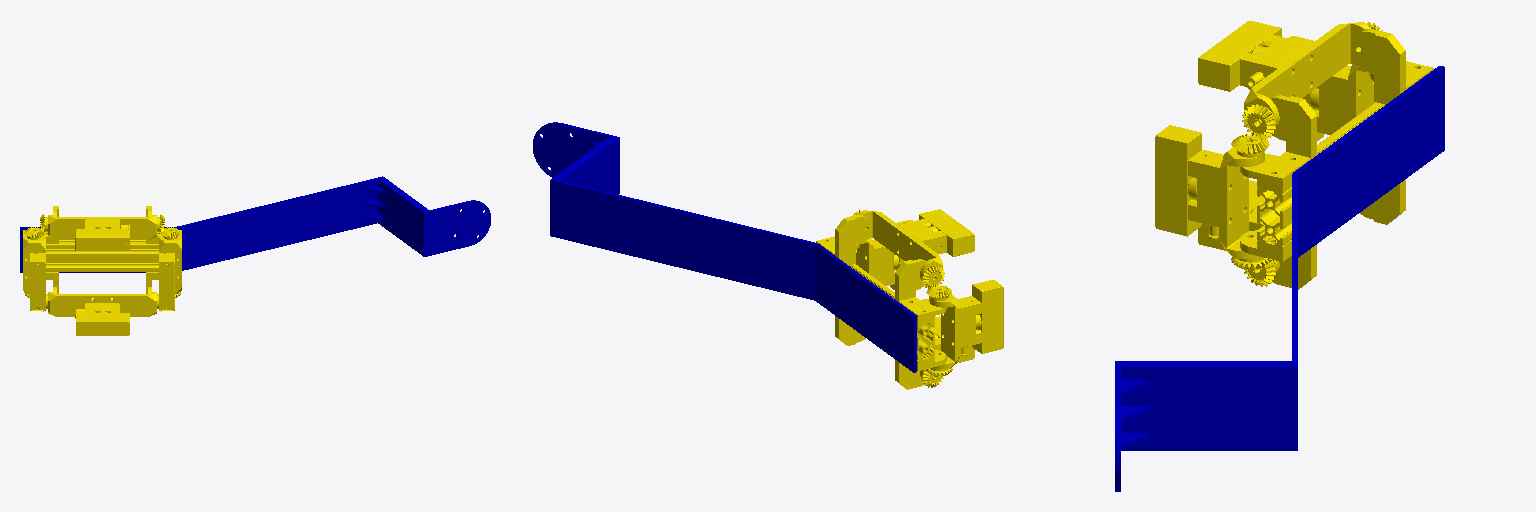
URDF robot description (S20):
<?xml version="1.0" ?>
<robot name="S20">
  <!-- material definition -->
  <material name="black">
    <color rgba="0.0 0.0 0.0 1.0"/>
  </material>
  <material name="blue">
    <color rgba="0.0 0.0 0.8 1.0"/>
  </material>
  <material name="green">
    <color rgba="0.0 0.8 0.0 1.0"/>
  </material>
  <material name="grey">
    <color rgba="0.2 0.2 0.2 1.0"/>
  </material>
  <material name="orange">
    <color rgba="1.0 0.4235294117647059 0.0392156862745098 1.0"/>
  </material>
  <material name="brown">
    <color rgba="0.8705882352941177 0.8117647058823529 0.7647058823529411 1.0"/>
  </material>
  <material name="red">
    <color rgba="0.8 0.0 0.0 1.0"/>
  </material>
  <material name="white">
    <color rgba="1.0 1.0 1.0 1.0"/>
  </material>
  <material name="metal">
    <color rgba="0.768627450980392 0.749019607843137 0.729411764705882 1"/>
  </material>
  <material name="metal_grey">
    <color rgba="0.501960784313725 0.501960784313725 0.501960784313725 1"/>
  </material>
  <material name="metal_white">
    <color rgba="0.866666666666667 0.866666666666667 0.890196078431373 1"/>
  </material>
  <!-- ros_control plugin -->
  <gazebo>
    <plugin filename="libgazebo_ros_control.so" name="gazebo_ros_control">
      <robotSimType>gazebo_ros_control/DefaultRobotHWSim</robotSimType>
      <legacyModeNS>true</legacyModeNS>
    </plugin>
  </gazebo>
  <gazebo reference="elfin_link2">
    <visual name="visual">
      <material>
        <script>
          <uri>file:/[local-path]/scripts/gazebo.material</uri>
          <name>Gazebo/Grey</name>
        </script>
      </material>
    </visual>
  </gazebo>
  <gazebo reference="elfin_link4">
    <visual name="visual">
      <material>
        <script>
          <uri>file:/[local-path]/scripts/gazebo.material</uri>
          <name>Gazebo/Grey</name>
        </script>
      </material>
    </visual>
  </gazebo>
  <!-- transmission for each joint -->
  <transmission name="elfin_joint1_trans">
    <type>transmission_interface/SimpleTransmission</type>
    <joint name="elfin_joint1">
      <hardwareInterface>hardware_interface/PositionJointInterface</hardwareInterface>
    </joint>
    <actuator name="elfin_joint1_motor">
      <mechanicalReduction>1</mechanicalReduction>
    </actuator>
  </transmission>
  <transmission name="elfin_joint2_trans">
    <type>transmission_interface/SimpleTransmission</type>
    <joint name="elfin_joint2">
      <hardwareInterface>hardware_interface/PositionJointInterface</hardwareInterface>
    </joint>
    <actuator name="elfin_joint2_motor">
      <mechanicalReduction>1</mechanicalReduction>
    </actuator>
  </transmission>
  <transmission name="elfin_joint3_trans">
    <type>transmission_interface/SimpleTransmission</type>
    <joint name="elfin_joint3">
      <hardwareInterface>hardware_interface/PositionJointInterface</hardwareInterface>
    </joint>
    <actuator name="elfin_joint3_motor">
      <mechanicalReduction>1</mechanicalReduction>
    </actuator>
  </transmission>
  <transmission name="elfin_joint4_trans">
    <type>transmission_interface/SimpleTransmission</type>
    <joint name="elfin_joint4">
      <hardwareInterface>hardware_interface/PositionJointInterface</hardwareInterface>
    </joint>
    <actuator name="elfin_joint4_motor">
      <mechanicalReduction>1</mechanicalReduction>
    </actuator>
  </transmission>
  <transmission name="elfin_joint5_trans">
    <type>transmission_interface/SimpleTransmission</type>
    <joint name="elfin_joint5">
      <hardwareInterface>hardware_interface/PositionJointInterface</hardwareInterface>
    </joint>
    <actuator name="elfin_joint5_motor">
      <mechanicalReduction>1</mechanicalReduction>
    </actuator>
  </transmission>
  <transmission name="elfin_joint6_trans">
    <type>transmission_interface/SimpleTransmission</type>
    <joint name="elfin_joint6">
      <hardwareInterface>hardware_interface/PositionJointInterface</hardwareInterface>
    </joint>
    <actuator name="elfin_joint6_motor">
      <mechanicalReduction>1</mechanicalReduction>
    </actuator>
  </transmission>
  <!-- link and joint -->
  <link name="world"/>
  <joint name="world_base" type="fixed">
    <origin rpy="0 0 0" xyz="0 0 0"/>
    <parent link="world"/>
    <child link="elfin_base_link"/>
  </joint>
  <link name="elfin_base_link"/>
  <joint name="elfin_base_joint" type="fixed">
    <origin rpy="0 0 0" xyz="0 0 0"/>
    <parent link="elfin_base_link"/>
    <child link="elfin_base"/>
  </joint>
  <link name="elfin_base">
    <inertial>
      <origin rpy="0 0 0" xyz="-0.00131650768656017 3.86349405459754E-05 0.0343213199540785"/>
      <mass value="2.32181468230125"/>
      <inertia ixx="0.00741739022505177" ixy="-9.4225231258528E-05" ixz="-5.45619950886553E-05" iyy="0.00699483778046143" iyz="1.30022773204213E-06" izz="0.0123390065438587"/>
    </inertial>
    <visual>
      <origin rpy="0 0 0" xyz="0 0 0"/>
      <geometry>
        <mesh filename="package://elfin_description/meshes/S20/elfin_base.STL"/>
      </geometry>
      <material name="">
        <color rgba="0.752941176470588 0.752941176470588 0.752941176470588 1"/>
      </material>
    </visual>
    <collision>
      <origin rpy="0 0 0" xyz="0 0 0"/>
      <geometry>
        <mesh filename="package://elfin_description/meshes/S20/elfin_base.STL"/>
      </geometry>
    </collision>
  </link>
  <link name="elfin_link1">
    <inertial>
      <origin rpy="0 0 0" xyz="-1.0792519167212E-07 -0.0224399626110038 0.00175002240516534"/>
      <mass value="6.93455742496729"/>
      <inertia ixx="0.0460589183335357" ixy="5.43718136375216E-07" ixz="2.96738634298801E-07" iyy="0.0375916708812216" iyz="-0.000245581780149179" izz="0.0394268304468804"/>
    </inertial>
    <visual>
      <origin rpy="0 0 0" xyz="0 0 0"/>
      <geometry>
        <mesh filename="package://elfin_description/meshes/S20/elfin_link1.STL"/>
      </geometry>
      <material name="">
        <color rgba="0.898039215686275 0.917647058823529 0.929411764705882 1"/>
      </material>
    </visual>
    <collision>
      <origin rpy="0 0 0" xyz="0 0 0"/>
      <geometry>
        <mesh filename="package://elfin_description/meshes/S20/elfin_link1.STL"/>
      </geometry>
    </collision>
  </link>
  <joint name="elfin_joint1" type="revolute">
    <origin rpy="0 0 0" xyz="0 0 0.171"/>
    <parent link="elfin_base"/>
    <child link="elfin_link1"/>
    <axis xyz="0 0 1"/>
    <limit effort="200" lower="-6.28" upper="6.28" velocity="1.57"/>
  </joint>
  <link name="elfin_link2">
    <inertial>
      <origin rpy="0 0 0" xyz="-0.370229694350317 9.38128437405483E-07 0.000899041883029139"/>
      <mass value="18.8395085758056"/>
      <inertia ixx="0.0687507132351259" ixy="-5.05507420279161E-07" ixz="-6.41343868263508E-05" iyy="0.411200291693132" iyz="-1.80729528146994E-07" izz="0.40138597350588"/>
    </inertial>
    <visual>
      <origin rpy="0 0 0" xyz="0 0 0"/>
      <geometry>
        <mesh filename="package://elfin_description/meshes/S20/elfin_link2.STL"/>
      </geometry>
      <material name="">
        <color rgba="0.752941176470588 0.752941176470588 0.752941176470588 1"/>
      </material>
    </visual>
    <collision>
      <origin rpy="0 0 0" xyz="0 0 0"/>
      <geometry>
        <mesh filename="package://elfin_description/meshes/S20/elfin_link2.STL"/>
      </geometry>
    </collision>
  </link>
  <joint name="elfin_joint2" type="revolute">
    <origin rpy="1.5708 1.5708 0" xyz="0 -0.2295 0"/>
    <parent link="elfin_link1"/>
    <child link="elfin_link2"/>
    <axis xyz="0 0 1"/>
    <limit effort="200" lower="-3.3158" upper="0.1745" velocity="1.57"/>
  </joint>
  <link name="elfin_link3">
    <inertial>
      <origin rpy="0 0 0" xyz="0.310973076601113 -4.7405306624615E-09 0.0109938899740937"/>
      <mass value="7.53508270364931"/>
      <inertia ixx="0.0133872719937165" ixy="1.91460600478011E-07" ixz="0.00152175061957157" iyy="0.11837455186459" iyz="-2.26041817837737E-08" izz="0.116582348081593"/>
    </inertial>
    <visual>
      <origin rpy="0 0 0" xyz="0 0 0"/>
      <geometry>
        <mesh filename="package://elfin_description/meshes/S20/elfin_link3.STL"/>
      </geometry>
      <material name="">
        <color rgba="0.752941176470588 0.752941176470588 0.752941176470588 1"/>
      </material>
    </visual>
    <collision>
      <origin rpy="0 0 0" xyz="0 0 0"/>
      <geometry>
        <mesh filename="package://elfin_description/meshes/S20/elfin_link3.STL"/>
      </geometry>
    </collision>
  </link>
  <joint name="elfin_joint3" type="revolute">
    <origin rpy="0 0 3.1416" xyz="-0.85 0 -0.1885"/>
    <parent link="elfin_link2"/>
    <child link="elfin_link3"/>
    <axis xyz="0 0 1"/>
    <limit effort="200" lower="-2.9319" upper="2.9319" velocity="1.57"/>
  </joint>
  <link name="elfin_link4">
    <inertial>
      <origin rpy="0 0 0" xyz="8.5204157129759E-07 -0.00559612992738279 0.124499710924349"/>
      <mass value="1.26777180180805"/>
      <inertia ixx="0.00300888445161096" ixy="1.64612435809042E-08" ixz="3.62281943568331E-08" iyy="0.00214465218602862" iyz="9.35786831203314E-05" izz="0.00239761638151984"/>
    </inertial>
    <visual>
      <origin rpy="0 0 0" xyz="0 0 0"/>
      <geometry>
        <mesh filename="package://elfin_description/meshes/S20/elfin_link4.STL"/>
      </geometry>
      <material name="">
        <color rgba="0.898039215686275 0.917647058823529 0.929411764705882 1"/>
      </material>
    </visual>
    <collision>
      <origin rpy="0 0 0" xyz="0 0 0"/>
      <geometry>
        <mesh filename="package://elfin_description/meshes/S20/elfin_link4.STL"/>
      </geometry>
    </collision>
  </link>
  <joint name="elfin_joint4" type="revolute">
    <origin rpy="0 0 0" xyz="0.712 0 0"/>
    <parent link="elfin_link3"/>
    <child link="elfin_link4"/>
    <axis xyz="0 0 1"/>
    <limit effort="104" lower="-6.28" upper="6.28" velocity="1.57"/>
  </joint>
  <link name="elfin_link5">
    <inertial>
      <origin rpy="0 0 0" xyz="-1.58900480728974E-06 0.00559613044782842 0.124499711309393"/>
      <mass value="1.26777180180803"/>
      <inertia ixx="0.00300888445161093" ixy="1.64612435696446E-08" ixz="-3.62281943491141E-08" iyy="0.00214465218602857" iyz="-9.35786831203246E-05" izz="0.00239761638151982"/>
    </inertial>
    <visual>
      <origin rpy="0 0 0" xyz="0 0 0"/>
      <geometry>
        <mesh filename="package://elfin_description/meshes/S20/elfin_link5.STL"/>
      </geometry>
      <material name="">
        <color rgba="0.752941176470588 0.752941176470588 0.752941176470588 1"/>
      </material>
    </visual>
    <collision>
      <origin rpy="0 0 0" xyz="0 0 0"/>
      <geometry>
        <mesh filename="package://elfin_description/meshes/S20/elfin_link5.STL"/>
      </geometry>
    </collision>
  </link>
  <joint name="elfin_joint5" type="revolute">
    <origin rpy="-1.5708 0 0" xyz="0 0 0.138"/>
    <parent link="elfin_link4"/>
    <child link="elfin_link5"/>
    <axis xyz="0 0 1"/>
    <limit effort="34" lower="-6.28" upper="6.28" velocity="1.57"/>
  </joint>
  <link name="elfin_link6">
    <inertial>
      <origin rpy="0 0 0" xyz="-7.47115137089693E-07 0.000102435646244473 0.0904183015693256"/>
      <mass value="0.468079508708449"/>
      <inertia ixx="0.000412770805513074" ixy="1.60636639637837E-08" ixz="-3.02343967687703E-08" iyy="0.000415704740293176" iyz="1.46595766333508E-07" izz="0.000530952415351683"/>
    </inertial>
    <visual>
      <origin rpy="0 0 0" xyz="0 0 0"/>
      <geometry>
        <mesh filename="package://elfin_description/meshes/S20/elfin_link6.STL"/>
      </geometry>
      <material name="">
        <color rgba="0.752941176470588 0.752941176470588 0.752941176470588 1"/>
      </material>
    </visual>
    <collision>
      <origin rpy="0 0 0" xyz="0 0 0"/>
      <geometry>
        <mesh filename="package://elfin_description/meshes/S20/elfin_link6.STL"/>
      </geometry>
    </collision>
  </link>
  <joint name="elfin_joint6" type="revolute">
    <origin rpy="1.5708 0 0" xyz="0 0 0.138"/>
    <parent link="elfin_link5"/>
    <child link="elfin_link6"/>
    <axis xyz="0 0 1"/>
    <limit effort="34" lower="-6.28" upper="6.28" velocity="1.57"/>
  </joint>
  <link name="elfin_end_link">
  </link>
  <joint name="elfin_end_joint" type="fixed">
    <origin rpy="0 0 3.1416" xyz="0 0 0.1257"/>
    <parent link="elfin_link6"/>
    <child link="elfin_end_link"/>
  </joint>
  <link name="ee_link">
    <visual>
      <origin rpy="0 0 0" xyz="0 0 0"/>
      <geometry>
        <mesh filename="package://elfin_description/meshes/S20/ee_link.STL"/>
      </geometry>
      <material name="">
        <color rgba="0 0 0.8 1"/>
      </material>
    </visual>
    <collision>
      <origin rpy="0 0 0" xyz="0 0 0"/>
      <geometry>
        <mesh filename="package://elfin_description/meshes/S20/ee_link.STL"/>
      </geometry>
    </collision>
  </link>
  <joint name="ee_link_joint" type="fixed">
    <origin rpy="-1.5707 0 1.5707" xyz="0.035 -0.155 0"/>
    <parent link="elfin_end_link"/>
    <child link="ee_link"/>
  </joint>
  <link name="gripper_link0">
    <visual>
      <origin rpy="0 0 0" xyz="0 0 0"/>
      <geometry>
        <mesh filename="package://elfin_description/meshes/S20/gripper_link.STL"/>
      </geometry>
      <material name="">
        <color rgba="0 0 0.8 1"/>
      </material>
    </visual>
    <collision>
      <origin rpy="0 0 0" xyz="0 0 0"/>
      <geometry>
        <mesh filename="package://elfin_description/meshes/S20/gripper_link.STL"/>
      </geometry>
    </collision>
  </link>
  <joint name="gripper_link_joint0" type="fixed">
    <origin rpy="1.5707 0 0" xyz="-0.1 0.124 0"/>
    <parent link="ee_link"/>
    <child link="gripper_link0"/>
  </joint>
  <link name="gripper_link1">
    <visual>
      <origin rpy="0 0 0" xyz="0 0 0"/>
      <geometry>
        <mesh filename="package://elfin_description/meshes/S20/gripper_link.STL"/>
      </geometry>
      <material name="">
        <color rgba="0 0 0.8 1"/>
      </material>
    </visual>
    <collision>
      <origin rpy="0 0 0" xyz="0 0 0"/>
      <geometry>
        <mesh filename="package://elfin_description/meshes/S20/gripper_link.STL"/>
      </geometry>
    </collision>
  </link>
  <joint name="gripper_link_joint1" type="fixed">
    <origin rpy="0 0 0" xyz="-0.1 0 0"/>
    <parent link="gripper_link0"/>
    <child link="gripper_link1"/>
  </joint>
  <link name="gripper_link_ee1">
    <visual>
      <origin rpy="0 0 0" xyz="0 0 0"/>
      <geometry>
        <mesh filename="package://elfin_description/meshes/S20/gripper_link.STL"/>
      </geometry>
      <material name="">
        <color rgba="0 0 0.8 1"/>
      </material>
    </visual>
    <collision>
      <origin rpy="0 0 0" xyz="0 0 0"/>
      <geometry>
        <mesh filename="package://elfin_description/meshes/S20/gripper_link.STL"/>
      </geometry>
    </collision>
  </link>
  <joint name="gripper_link_joint_ee1" type="fixed">
    <origin rpy="0 -0.5235 0" xyz="-0.0866 0 -0.05"/>
    <parent link="gripper_link1"/>
    <child link="gripper_link_ee1"/>
  </joint>
  <link name="gripper_link_ee2">
    <visual>
      <origin rpy="0 0 0" xyz="0 0 0"/>
      <geometry>
        <mesh filename="package://elfin_description/meshes/S20/gripper_link.STL"/>
      </geometry>
      <material name="">
        <color rgba="0 0 0.8 1"/>
      </material>
    </visual>
    <collision>
      <origin rpy="0 0 0" xyz="0 0 0"/>
      <geometry>
        <mesh filename="package://elfin_description/meshes/S20/gripper_link.STL"/>
      </geometry>
    </collision>
  </link>
  <joint name="gripper_link_joint_ee2" type="fixed">
    <origin rpy="0 0 0" xyz="-0.1 0 0"/>
    <parent link="gripper_link_ee1"/>
    <child link="gripper_link_ee2"/>
  </joint>
  <link name="needle_gripper">
    <visual>
      <origin rpy="0 0 0" xyz="0 0 0"/>
      <geometry>
        <mesh filename="package://elfin_description/meshes/S20/needle_gripper.STL"/>
      </geometry>
      <material name="">
        <color rgba="1.0 0.92 0.016 1"/>
      </material>
    </visual>
    <collision>
      <origin rpy="0 0 0" xyz="0 0 0"/>
      <geometry>
        <mesh filename="package://elfin_description/meshes/S20/needle_gripper.STL"/>
      </geometry>
    </collision>
  </link>
  <joint name="gripper_joint" type="fixed">
    <origin rpy="-1.5708 0 0" xyz="0.106 0.0305 0.09"/>
    <parent link="gripper_link_ee2"/>
    <child link="needle_gripper"/>
  </joint>

</robot>

--- What the picture shows (computed from the rendered views, not written in the file) ---
3 views of the same robot in one strip: view 1: azimuth 30°, elevation 25°; view 2: azimuth 150°, elevation 25°; view 3: azimuth 270°, elevation 25° (orthographic).
Robot: S20 — 16 links, 15 joints (6 revolute, 9 fixed); root link world; default pose: all joints at 0.
Links seen in each view (by area): view 1: needle_gripper, ee_link, gripper_link0, gripper_link1; view 2: needle_gripper, ee_link, gripper_link0, gripper_link1, gripper_link_ee2, gripper_link_ee1; view 3: needle_gripper, ee_link, gripper_link_ee2, gripper_link_ee1.
Link boxes in pixels (x1,y1,x2,y2): needle_gripper: (23, 206, 181, 335); ee_link: (310, 176, 490, 256); gripper_link0: (243, 194, 310, 255); gripper_link1: (175, 211, 243, 270); needle_gripper: (816, 209, 1003, 389); ee_link: (533, 122, 645, 258); gripper_link0: (644, 201, 730, 279); gripper_link1: (730, 222, 816, 300); gripper_link_ee2: (864, 280, 916, 372); gripper_link_ee1: (815, 244, 866, 335); needle_gripper: (1155, 21, 1433, 289); ee_link: (1115, 299, 1297, 491); gripper_link_ee2: (1367, 66, 1444, 203); gripper_link_ee1: (1293, 119, 1370, 257).
Size in the robot's own frame: 0.6184 by 0.224 by 0.14 metres.
6 mesh visuals loaded from 10 distinct referenced files (3 binary STL); not drawn: 7 (reference not matched to a file when rendering).